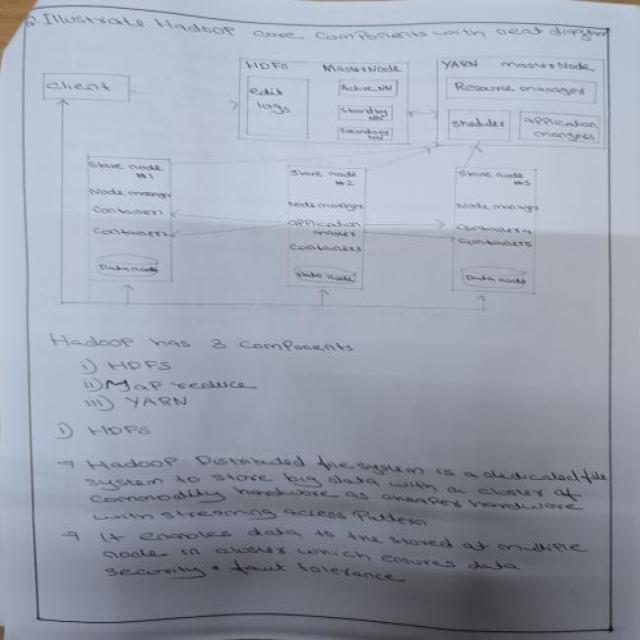Figure Detection - v3 Dataset Version2: (33, 39, 614, 326)
